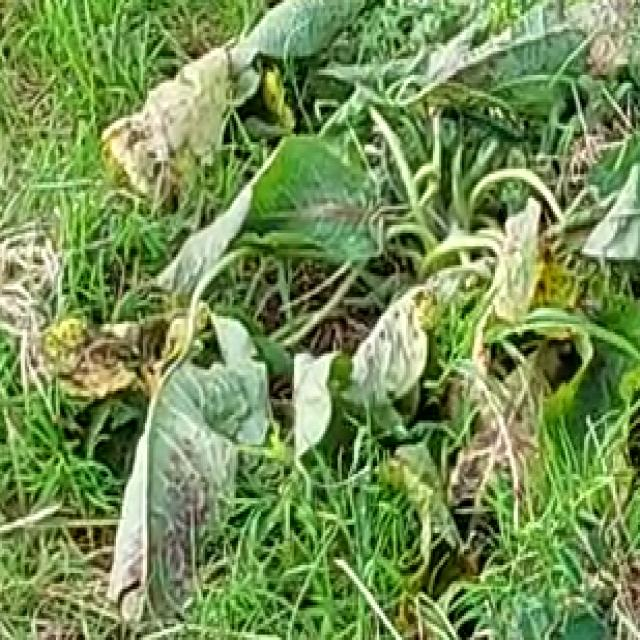organic waste: (130, 0, 632, 611)
